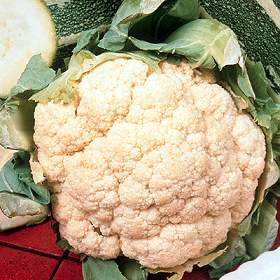cauliflower: (31, 47, 269, 272)
